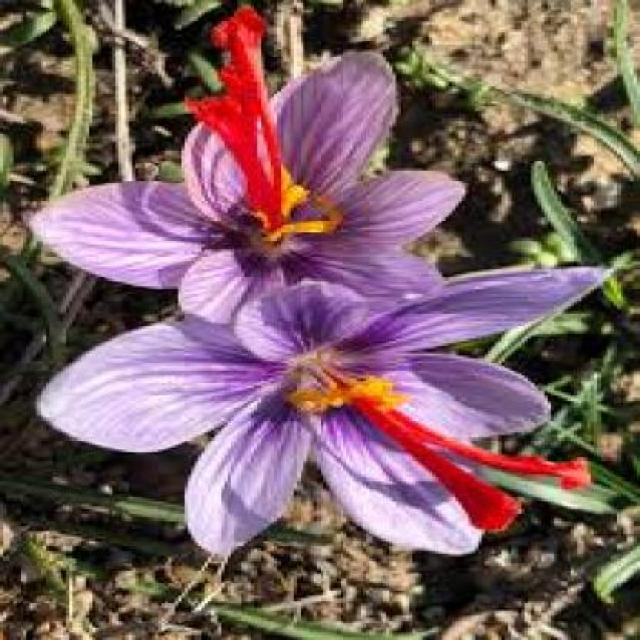saffron open: (39, 269, 599, 554), (32, 8, 464, 323)
